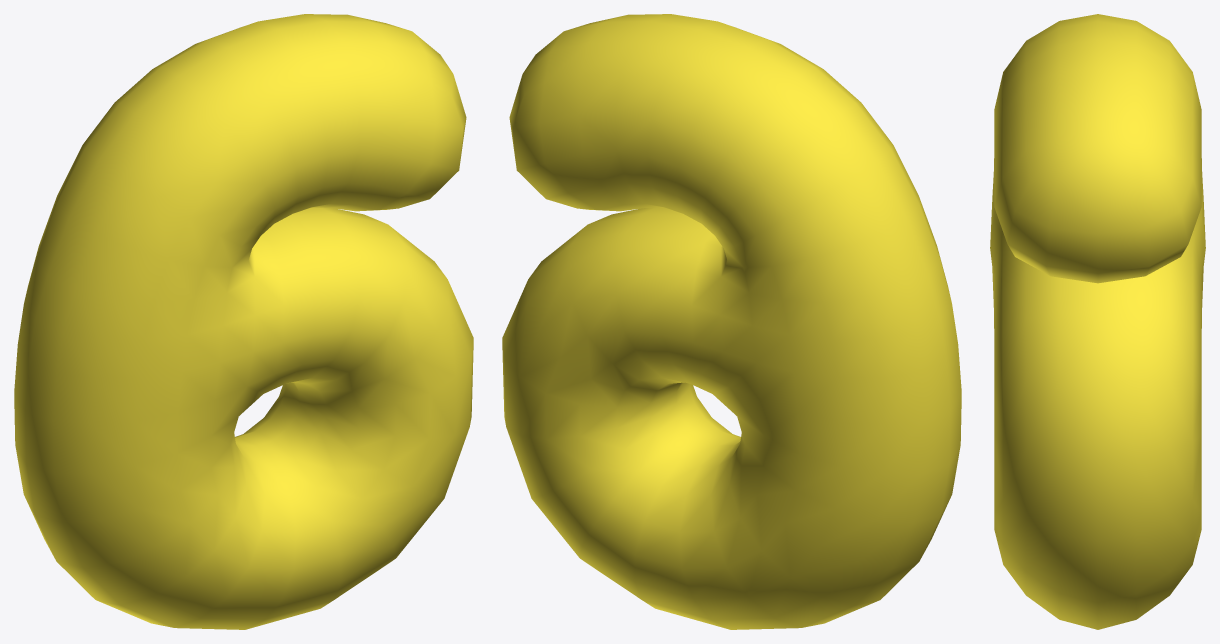
The picture shows the model from 3 angles, left to right: view 1: azimuth 30°, elevation 25°; view 2: azimuth 150°, elevation 25°; view 3: azimuth 270°, elevation 25°; orthographic projection.
Parts seen in each view (by area): view 1: 6_wire_115115115_0; view 2: 6_wire_115115115_0; view 3: 6_wire_115115115_0.
Boxes of the visible parts, left/top/right/bottom form: 6_wire_115115115_0: left=14, top=14, right=473, bottom=629; 6_wire_115115115_0: left=502, top=14, right=961, bottom=629; 6_wire_115115115_0: left=990, top=14, right=1205, bottom=629.
Bounding box in the file's own units: 38.68 × 49.35 × 16.75.
